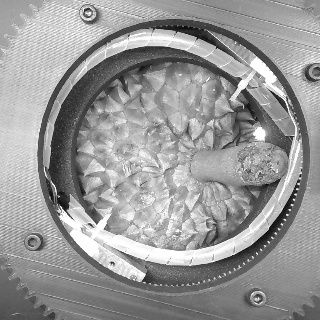base: (185, 147, 219, 187)
end: (269, 149, 289, 175)
